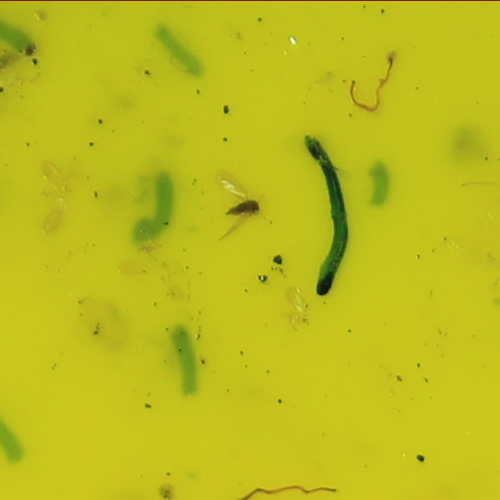psylla: (225, 197, 263, 218)
